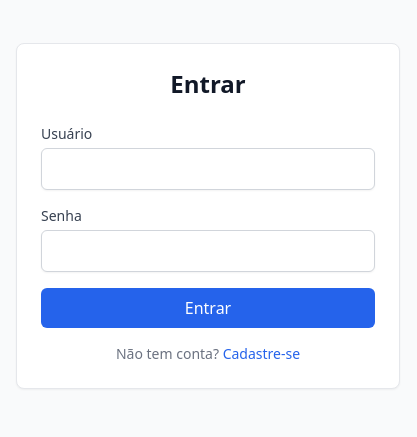
Test: LoginPage › exibe mensagem de erro para credenciais inválidas
This screenshot has width=417, height=437.
Type "errado" into the field labelled "Usuário" at (208, 169), box [41, 148, 375, 190]
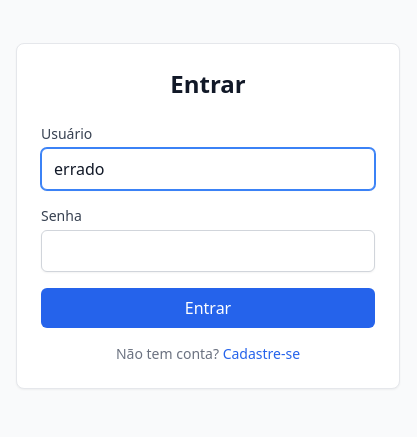
Type "errada" into the password field labelled "Senha" at (208, 251), box [41, 230, 375, 272]
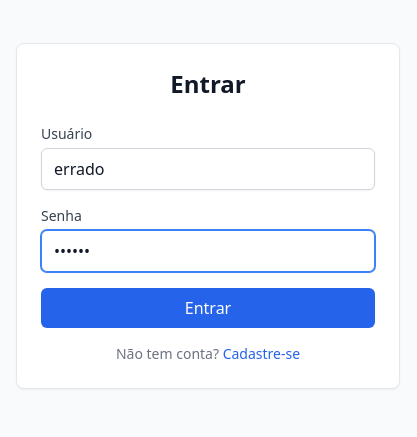
Click the button "Entrar" at (208, 308), box [41, 288, 375, 328]
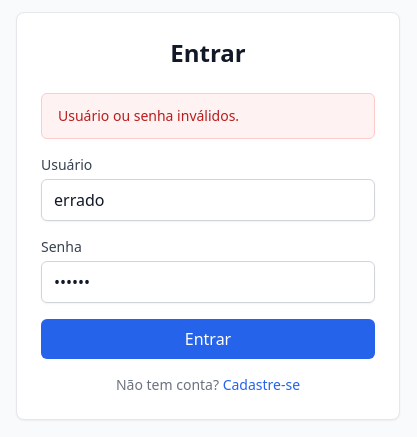
Check: the text "Usuário ou senha inválidos." is shown, box [41, 93, 375, 139]
